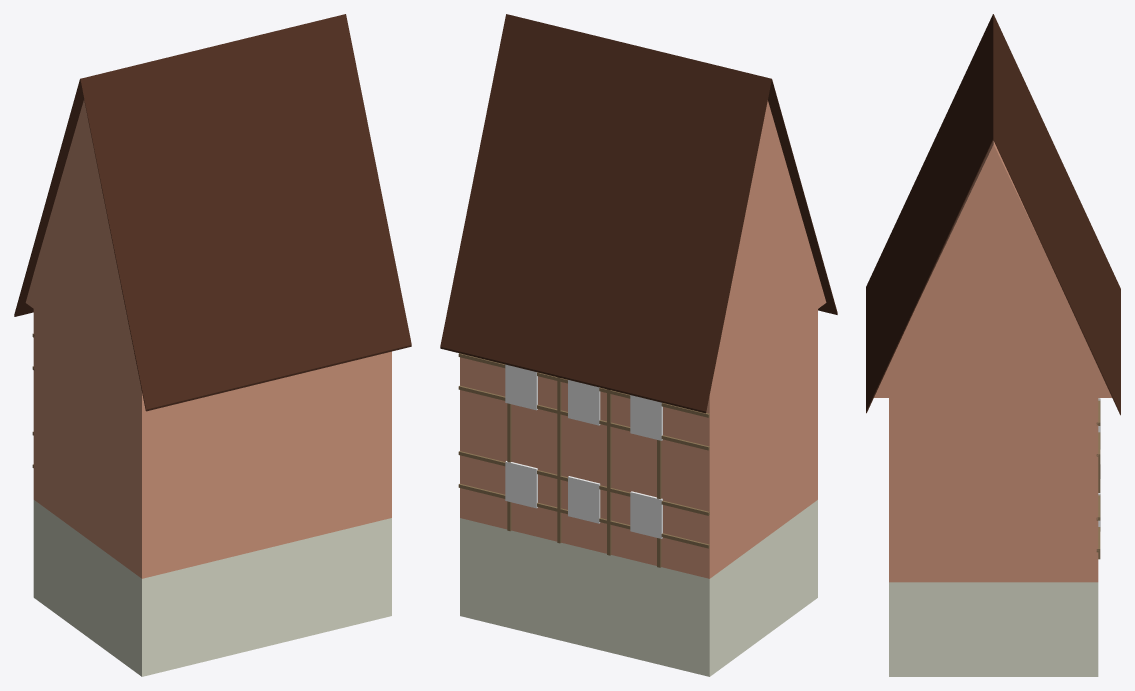
File: house4.fbx
3 renders of one model, left to right at view 1: azimuth 30°, elevation 25°; view 2: azimuth 150°, elevation 25°; view 3: azimuth 270°, elevation 25°, orthographic. The views are drawn at different scales.
Parts seen in each view (by area): view 1: Roof, Base_Stone, Floor_2, Floor_3, 円柱; view 2: Roof, Base_Stone, Floor_2, Floor_3, 円柱, 立方体.013, 立方体.012, 立方体.014, 立方体.015, 立方体.016, 立方体.017, 立方体.004 (+3 smaller); view 3: Roof, 円柱, Floor_3, Floor_2, Base_Stone.
Part boxes in pixels (<box>): Roof: <box>14,14,411,411</box>; Base_Stone: <box>33,500,391,676</box>; Floor_2: <box>33,402,391,578</box>; Floor_3: <box>33,303,391,480</box>; 円柱: <box>25,100,140,386</box>; Roof: <box>440,14,837,413</box>; Base_Stone: <box>460,500,817,676</box>; Floor_2: <box>460,402,817,578</box>; Floor_3: <box>460,309,817,480</box>; 円柱: <box>712,100,826,380</box>; 立方体.013: <box>568,476,600,523</box>; 立方体.012: <box>630,491,662,538</box>; 立方体.014: <box>505,461,537,508</box>; 立方体.015: <box>630,395,662,440</box>; 立方体.016: <box>568,380,600,425</box>; 立方体.017: <box>505,364,537,410</box>; 立方体.004: <box>458,483,709,548</box>; Roof: <box>866,14,1120,415</box>; 円柱: <box>874,140,1111,397</box>; Floor_3: <box>889,392,1098,487</box>; Floor_2: <box>889,487,1098,582</box>; Base_Stone: <box>889,582,1098,676</box>.
Bounding box in the file's own units: 851 × 1714 × 731.
